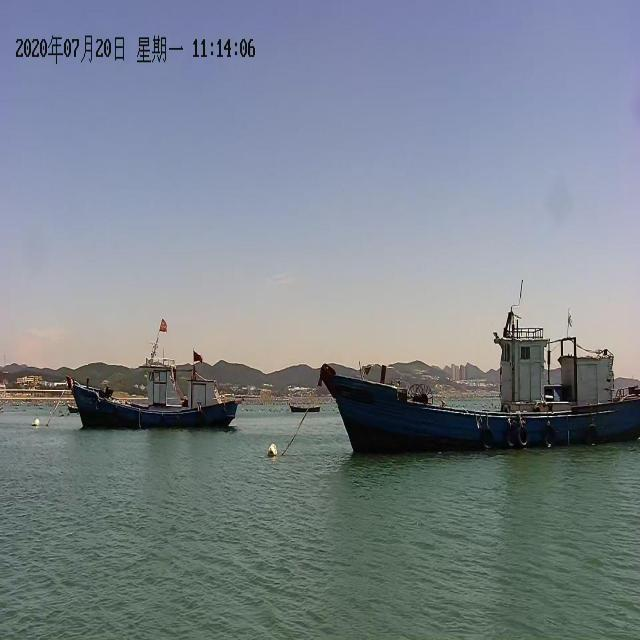CIV_Ship: (316, 336, 640, 456), (68, 339, 240, 432), (288, 402, 322, 414)
